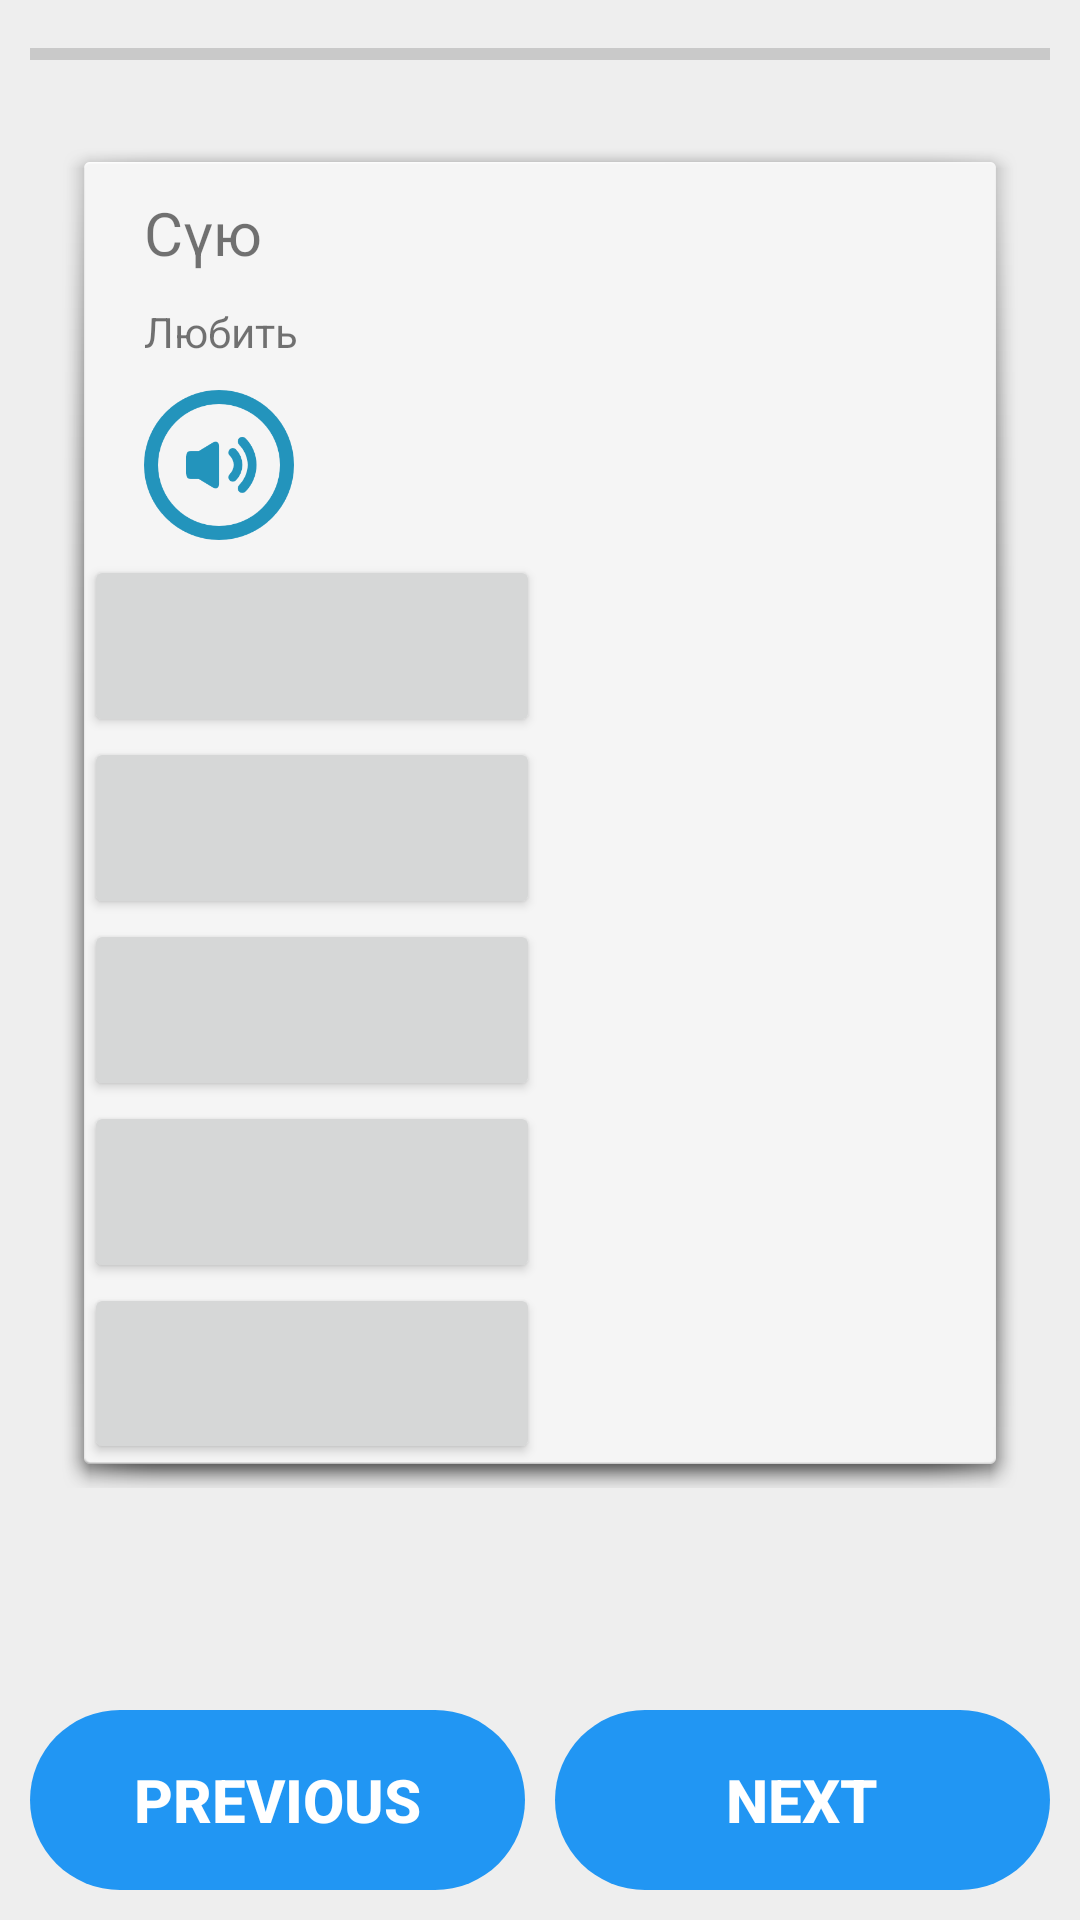

Screen size 1080px×1920px. Icon name, then its center in pixels as [x,y]:
volume: [219,465]
